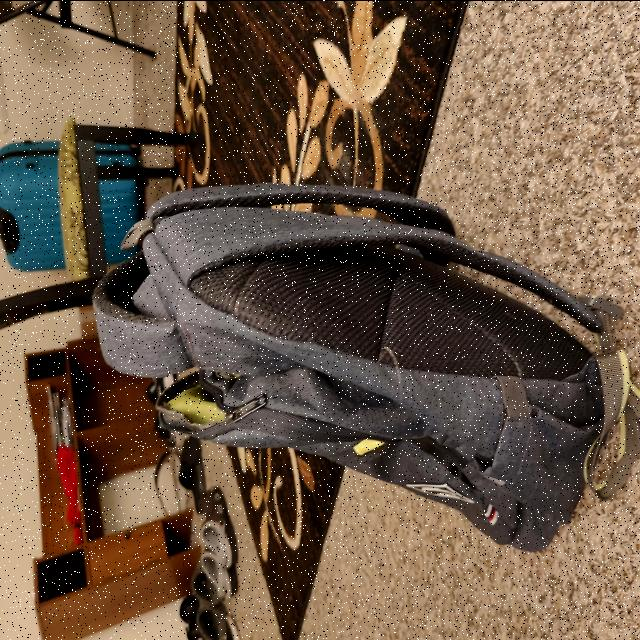bag: (96, 197, 626, 539), (110, 564, 116, 570)
